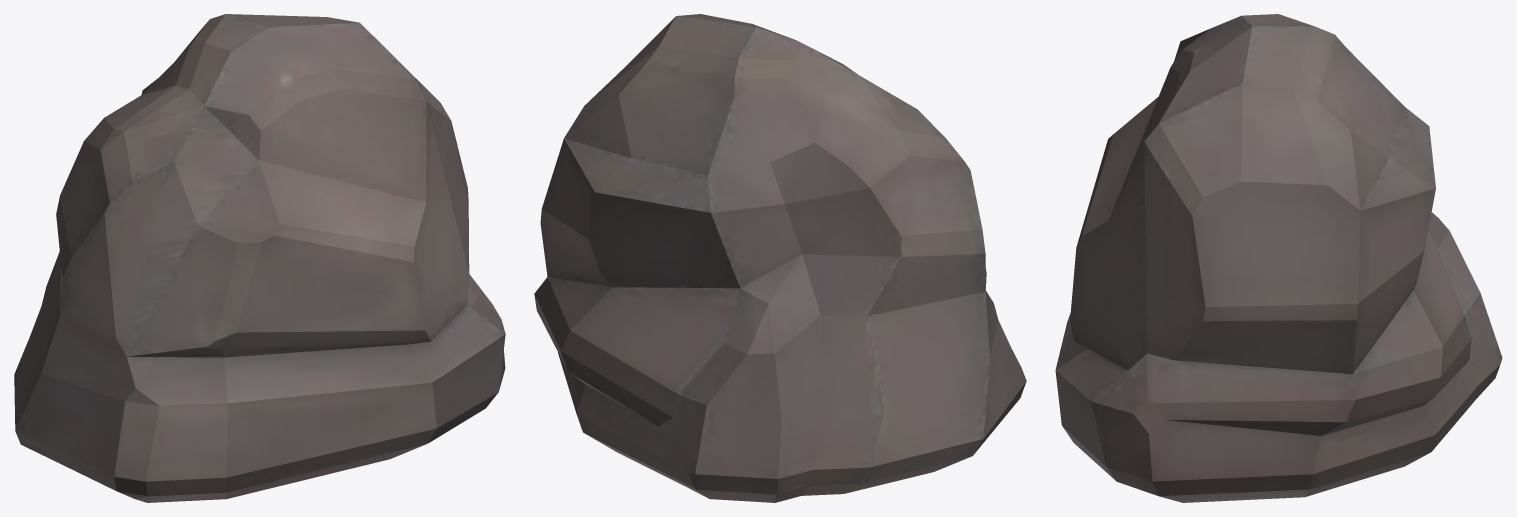
3 renders of one model, left to right at view 1: azimuth 30°, elevation 25°; view 2: azimuth 150°, elevation 25°; view 3: azimuth 270°, elevation 25°, orthographic. The views are drawn at different scales.
Visible parts, largest first — view 1: body0_model0_lod0_mesh0; view 2: body0_model0_lod0_mesh0; view 3: body0_model0_lod0_mesh0.
Boxes of the visible parts, <box> form: body0_model0_lod0_mesh0: <box>14,14,505,502</box>; body0_model0_lod0_mesh0: <box>534,14,1026,502</box>; body0_model0_lod0_mesh0: <box>1055,14,1502,502</box>.
Size of the model in its own units: 166 by 146 by 146.
1 material, 1 textured.
